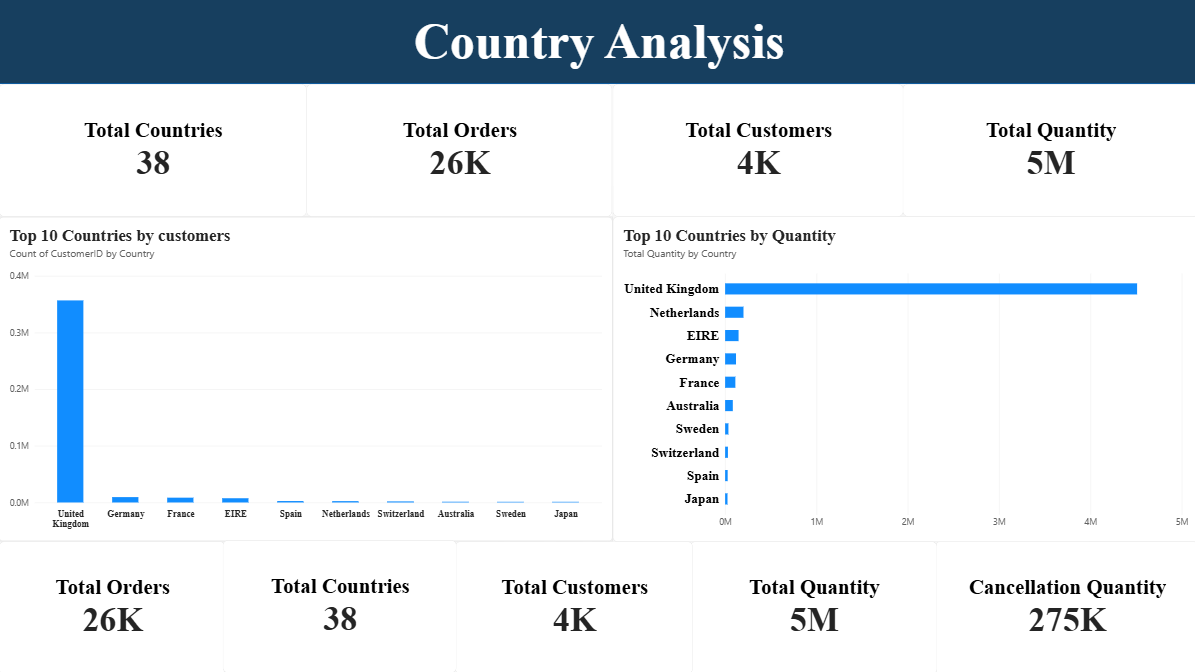

Layout of this report page (visuals, bound fields, positions):
{"tool":"powerbi","page":{"name":"Country Analysis","canvas":[1920,1080],"ordinal":3},"visuals":[{"type":"shape","box":[0,0,1920.4,135.8],"z":0},{"type":"cardVisual","fields":{"Data":["DateTable.Total Countries"]},"box":[0,135.8,492,212],"z":0,"group":"g1"},{"type":"cardVisual","fields":{"Data":["DateTable.Total Quantity"]},"box":[1446.6,135.8,473.5,212],"z":0,"group":"g5"},{"type":"cardVisual","fields":{"Data":["DateTable.Total Orders"]},"box":[491.9,136.1,489.9,212],"z":0,"group":"g2"},{"type":"cardVisual","fields":{"Data":["DateTable.Total Customers"]},"box":[981.8,136.1,465.2,212],"z":0,"group":"g3"},{"type":"cardVisual","fields":{"Data":["DateTable.Total Quantity"]},"box":[1106.9,867.5,395.2,212],"z":0,"group":"g6"},{"type":"cardVisual","fields":{"Data":["DateTable.Total Orders"]},"box":[0,868.6,362.3,212],"z":1000,"group":"g6"},{"type":"cardVisual","fields":{"Data":["DateTable.Cancellation Quantity"]},"box":[1498,868.6,422,212],"z":1000},{"type":"textbox","box":[0,22.6,1920.4,113.2],"z":2000},{"type":"group","id":"g1","title":"Group 1","box":[0,135.8,491.9,212],"z":2000,"group":"g4"},{"type":"cardVisual","fields":{"Data":["DateTable.Total Customers"]},"box":[729.7,867.5,380.8,212],"z":2000,"group":"g6"},{"type":"group","id":"g2","title":"Group 1","box":[491.9,136.1,489.9,212],"z":3000,"group":"g4"},{"type":"columnChart","title":"Top 10 Countries by customers","fields":{"Category":["EcommerceData.Country"],"Y":["CountNonNull(EcommerceData.CustomerID)"]},"box":[0,347.9,981.8,520.8],"z":3000},{"type":"cardVisual","fields":{"Data":["DateTable.Total Countries"]},"box":[358.7,866.5,374.6,212],"z":3000,"group":"g6"},{"type":"group","id":"g3","title":"Group 1","box":[981.8,136.1,465.2,212],"z":4000,"group":"g4"},{"type":"clusteredBarChart","title":"Top 10 Countries by Quantity     ","fields":{"Category":["EcommerceData.Country"],"Y":["DateTable.Total Quantity"]},"box":[981.8,347.9,938.6,520.8],"z":4000},{"type":"group","id":"g4","title":"Group 2","box":[0,135.8,1920,212.3],"z":5000},{"type":"group","id":"g5","title":"Group 1","box":[1446.6,135.8,473.4,212],"z":5000,"group":"g4"},{"type":"group","id":"g6","title":"Group 2","box":[0,866.5,1502.1,214.1],"z":6000}]}

Visuals, with their boxes in screenshot pixels (x1, y1, x2, y2), scaled from the page's 1920x1080 canvas onto the 1195x672 screenshot:
shape: 0 0 1194 84
cardVisual - DateTable.Total Countries: 0 84 306 216
cardVisual - DateTable.Total Quantity: 900 84 1194 216
cardVisual - DateTable.Total Orders: 306 85 611 217
cardVisual - DateTable.Total Customers: 611 85 901 217
cardVisual - DateTable.Total Quantity: 689 540 935 671
cardVisual - DateTable.Total Orders: 0 540 225 671
cardVisual - DateTable.Cancellation Quantity: 932 540 1194 671
textbox: 0 14 1194 84
"Group 1" group: 0 84 306 216
cardVisual - DateTable.Total Customers: 454 540 691 671
"Group 1" group: 306 85 611 217
"Top 10 Countries by customers" columnChart: 0 216 611 541
cardVisual - DateTable.Total Countries: 223 539 456 671
"Group 1" group: 611 85 901 217
"Top 10 Countries by Quantity     " clusteredBarChart: 611 216 1194 541
"Group 2" group: 0 84 1194 217
"Group 1" group: 900 84 1194 216
"Group 2" group: 0 539 935 671
